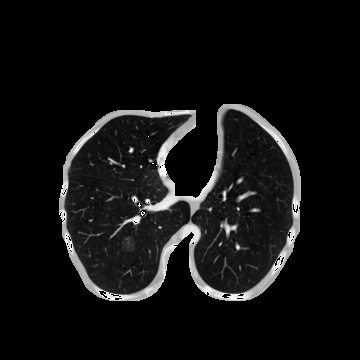PN: (121, 236, 137, 252)
